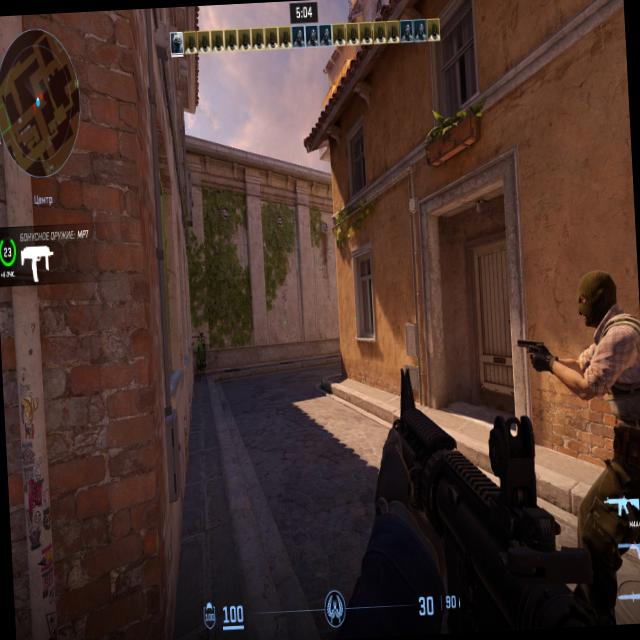T: (579, 274, 640, 487)
T_heat: (582, 285, 616, 324)
